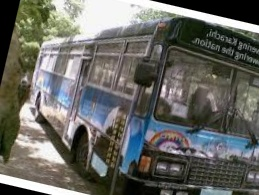bus: (9, 0, 259, 195)
